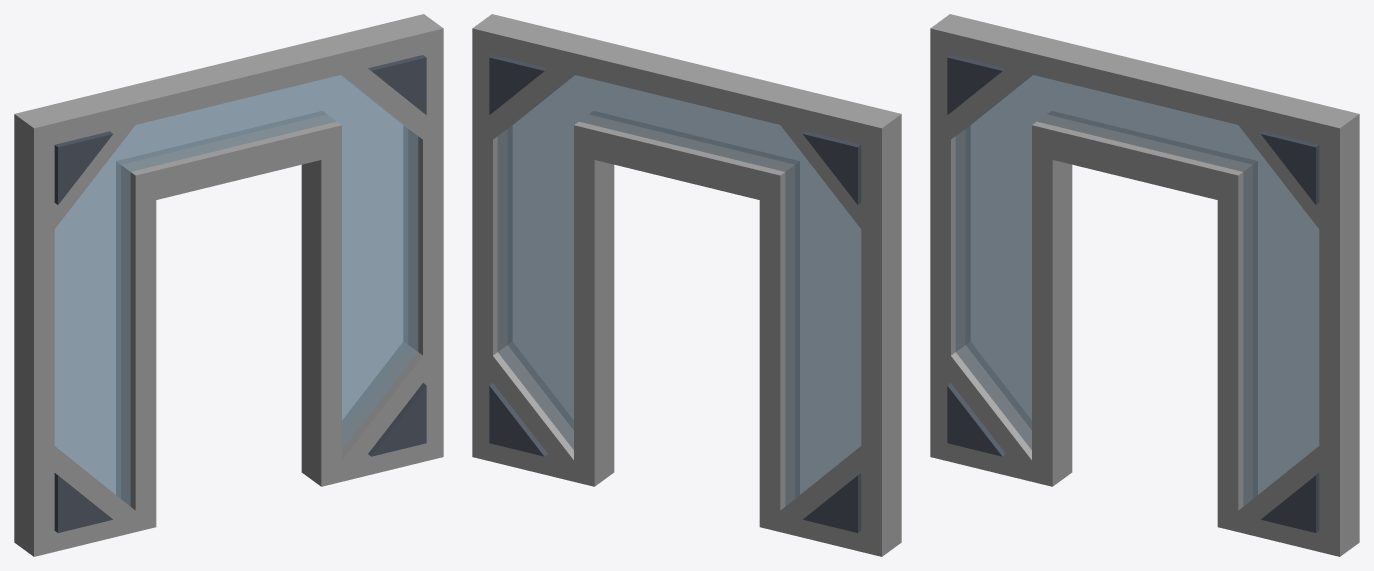
File: DoggyDoor_1.fbx
3 renders of one model, left to right at view 1: azimuth 30°, elevation 25°; view 2: azimuth 150°, elevation 25°; view 3: azimuth 330°, elevation 25°, orthographic.
Visible parts, largest first — view 1: pCube1, pCube2; view 2: pCube1, pCube2; view 3: pCube1, pCube2.
Part boxes in pixels (<box>): pCube1: <box>14,14,443,556</box>; pCube2: <box>54,75,418,506</box>; pCube1: <box>472,14,901,556</box>; pCube2: <box>497,75,861,506</box>; pCube1: <box>930,14,1359,556</box>; pCube2: <box>955,75,1319,506</box>.
Size of the model in its own units: 600 by 600 by 68.16.
